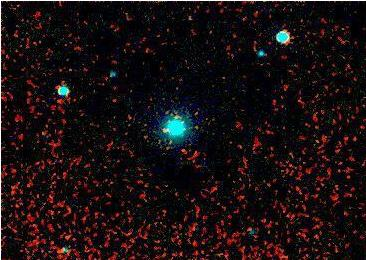star: (148, 116, 178, 146)
